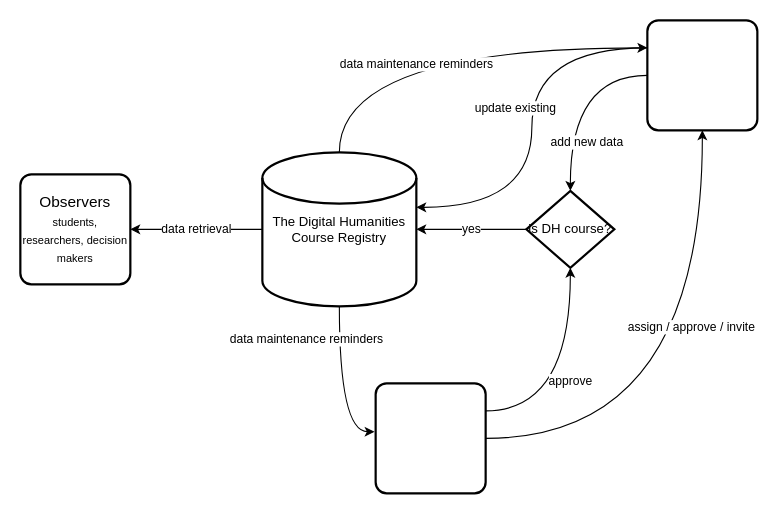
This 777x513 diagram has some shape labels left out. The centre of each missing label's shape, as x and y in pixels:
Contributors lecturers, programme directors: (702,75)
Moderators national moderators, administrators: (430,438)
